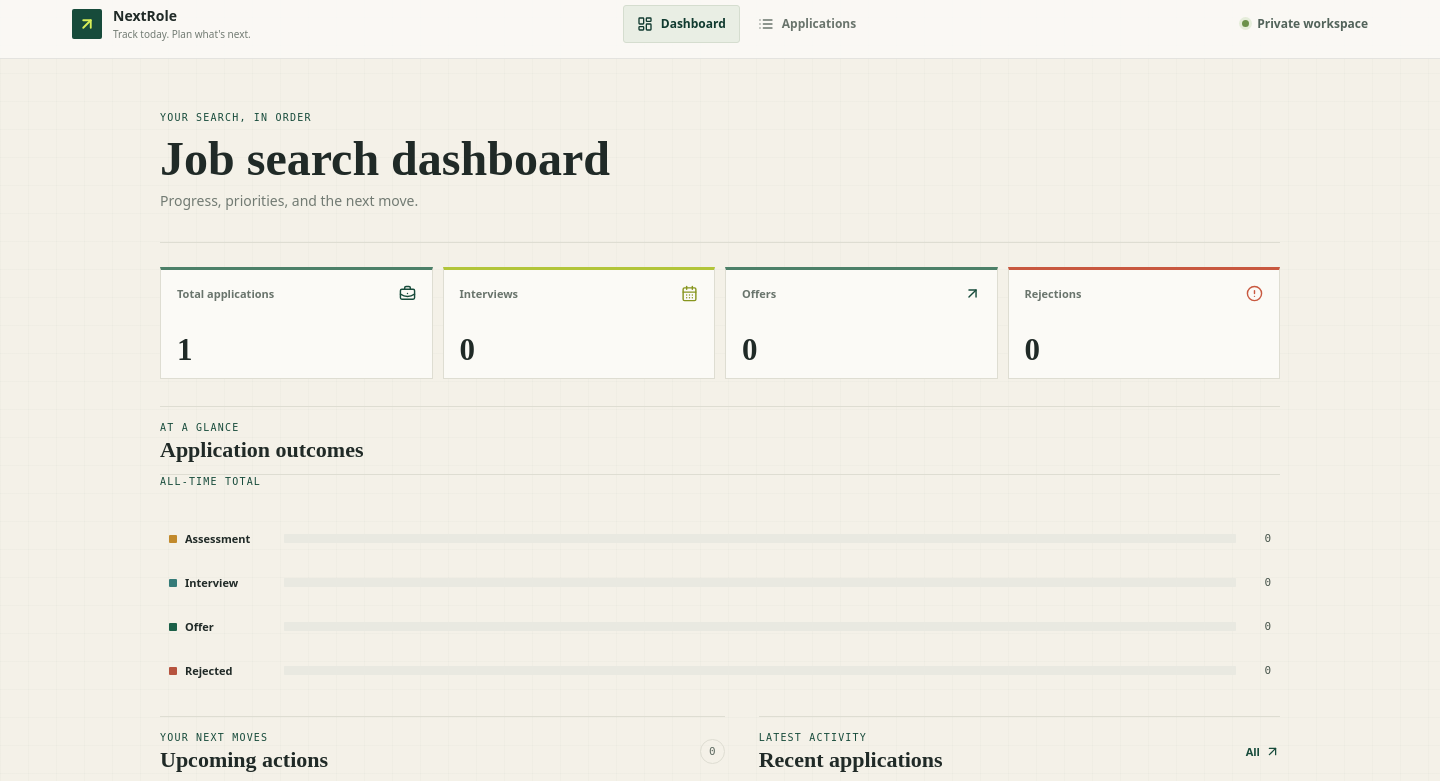
it: Application tracker › edits an application without creating a duplicate
Click the button "Applications".
click(807, 24)  # box [744,4,870,42]
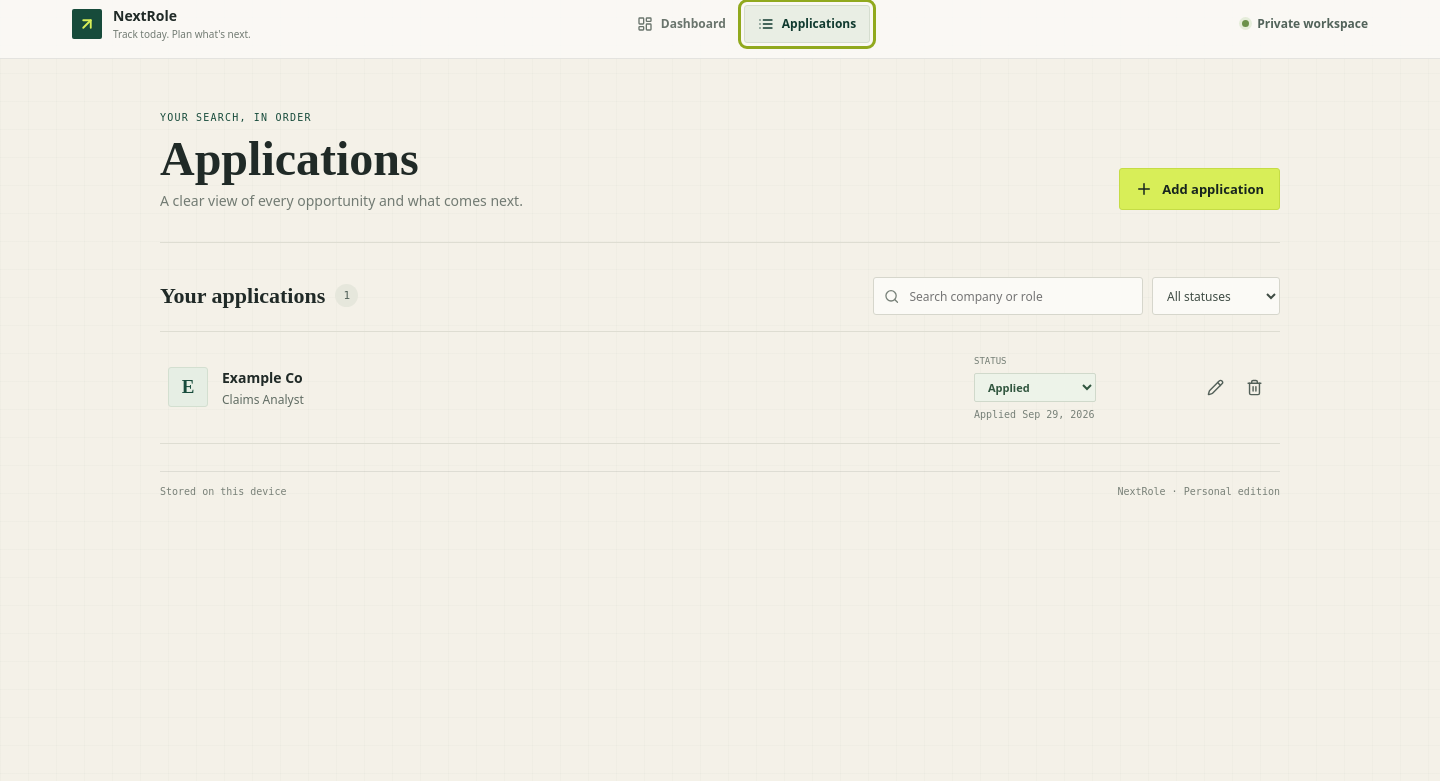
Click the button named "Edit Claims Analyst at Example Co".
click(1215, 388)  # box [1197,370,1233,406]
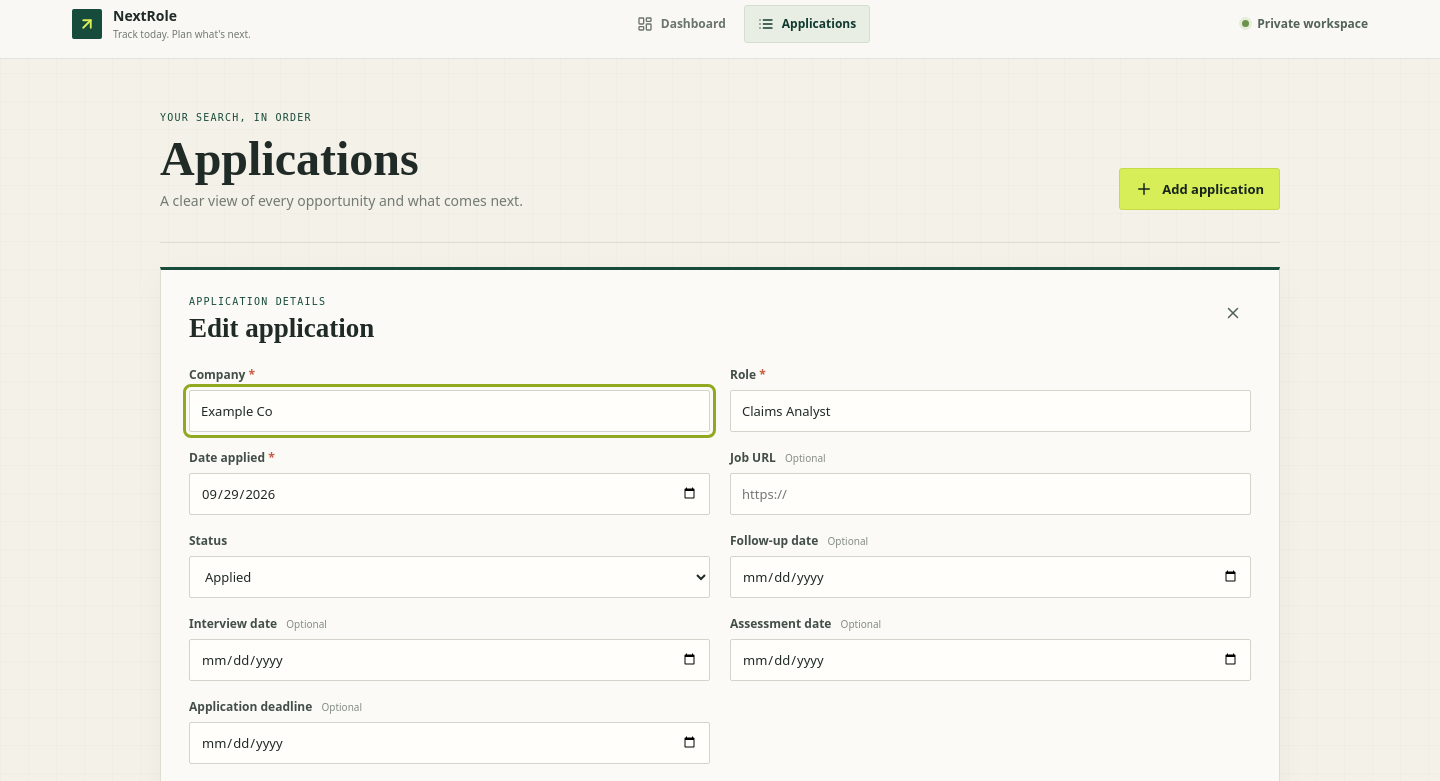
Replace the text in the field labelled "Role *" with "Senior Claims Analyst" at (990, 411), box [730,390,1251,432]
(page scrolled)
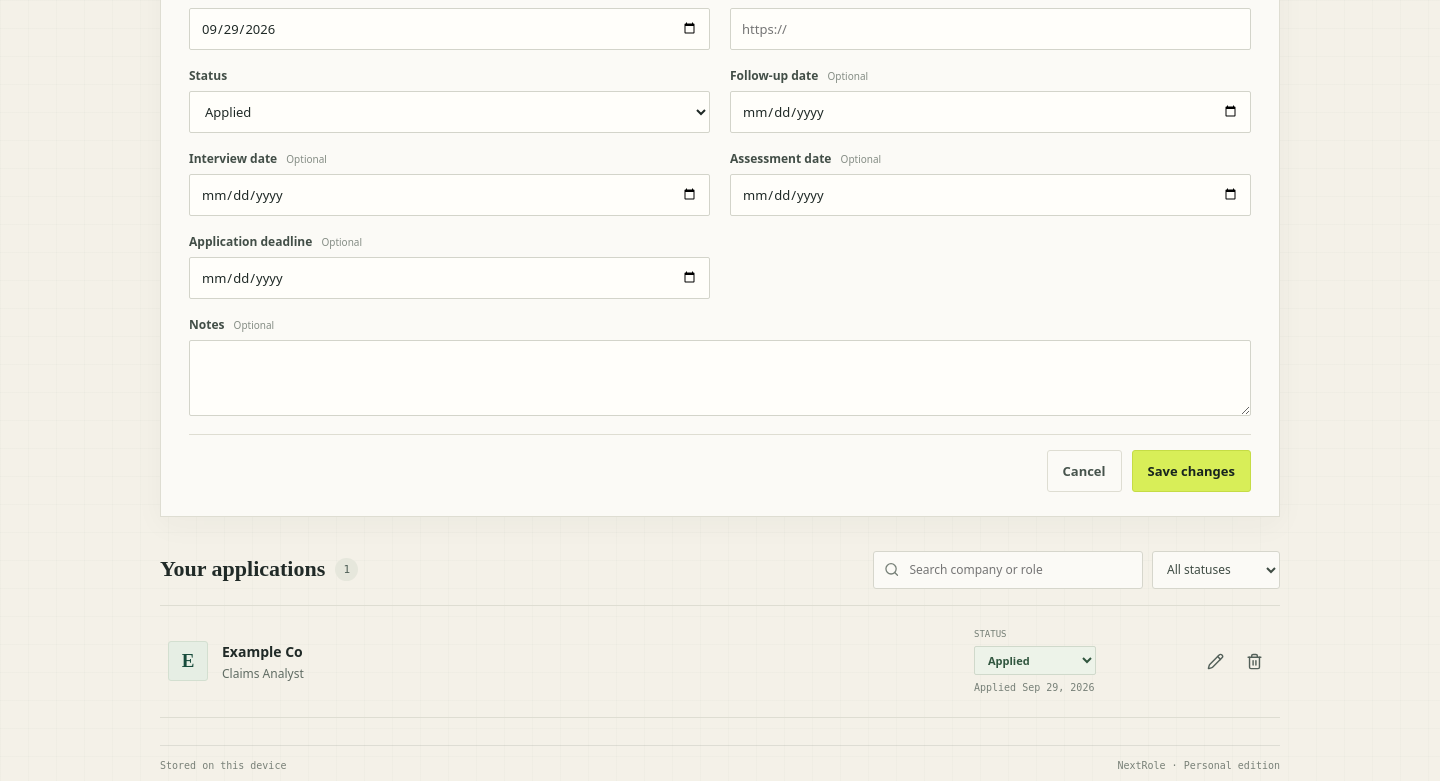
Click the button "Save changes".
click(1191, 471)  # box [1132,450,1251,492]
(page scrolled)
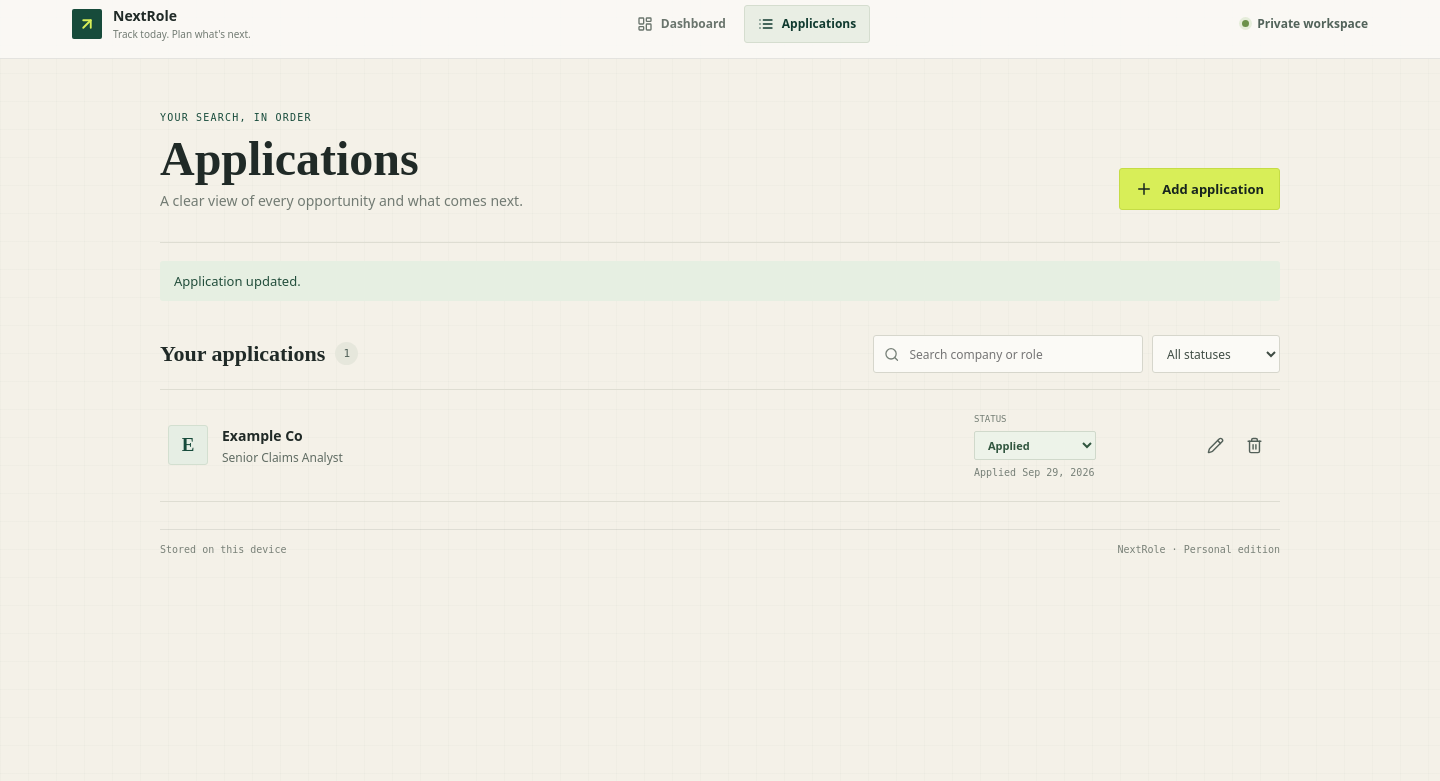
Result: the number of list items is 1 at [160,390,1280,502]
Result: the text "Senior Claims Analyst" is shown at [222,449,343,466]
Result: the message with class "notice" reads "Application updated." at [174,272,301,290]
Click the button with class "nav-link" showing "Dashboard".
click(681, 24)  # box [623,4,740,42]
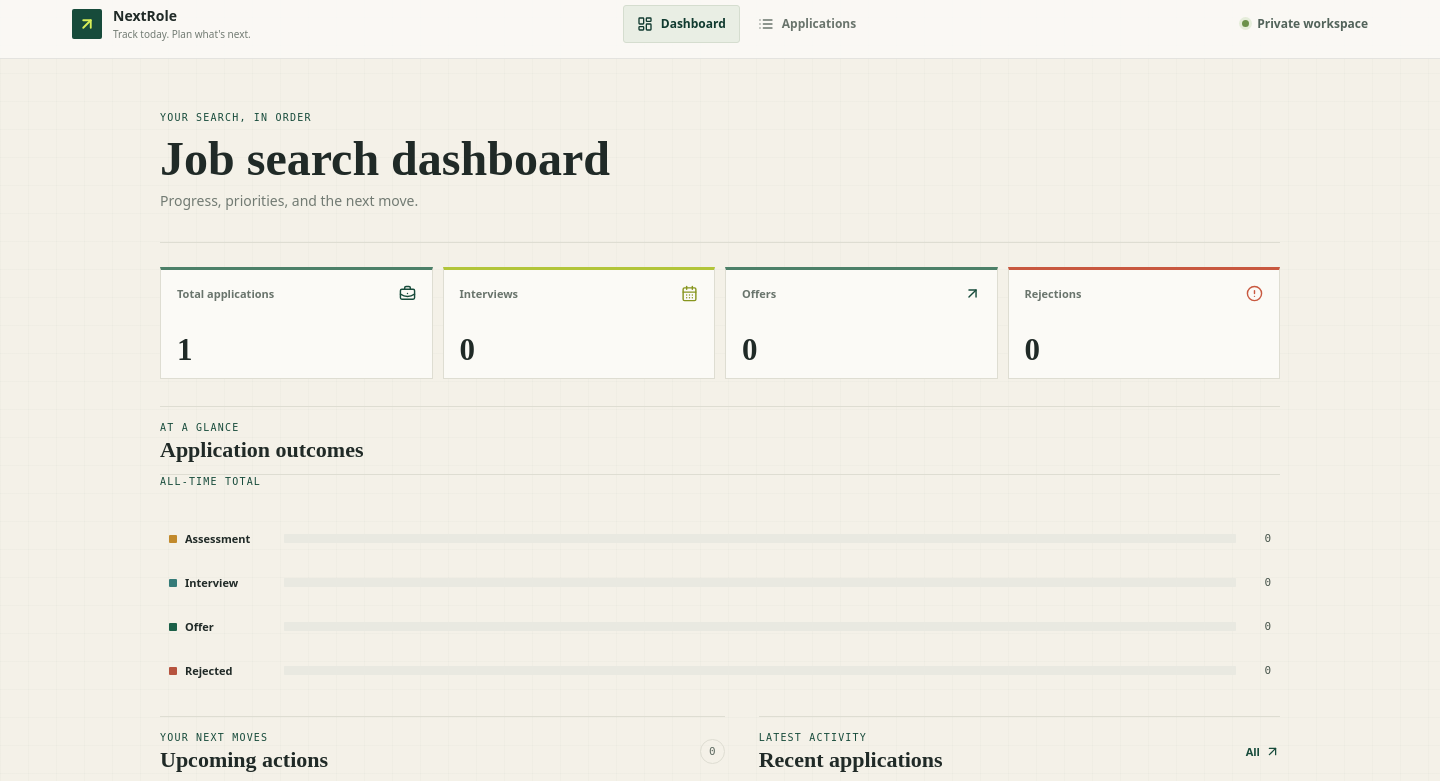
Result: the message with class "notice" is gone
